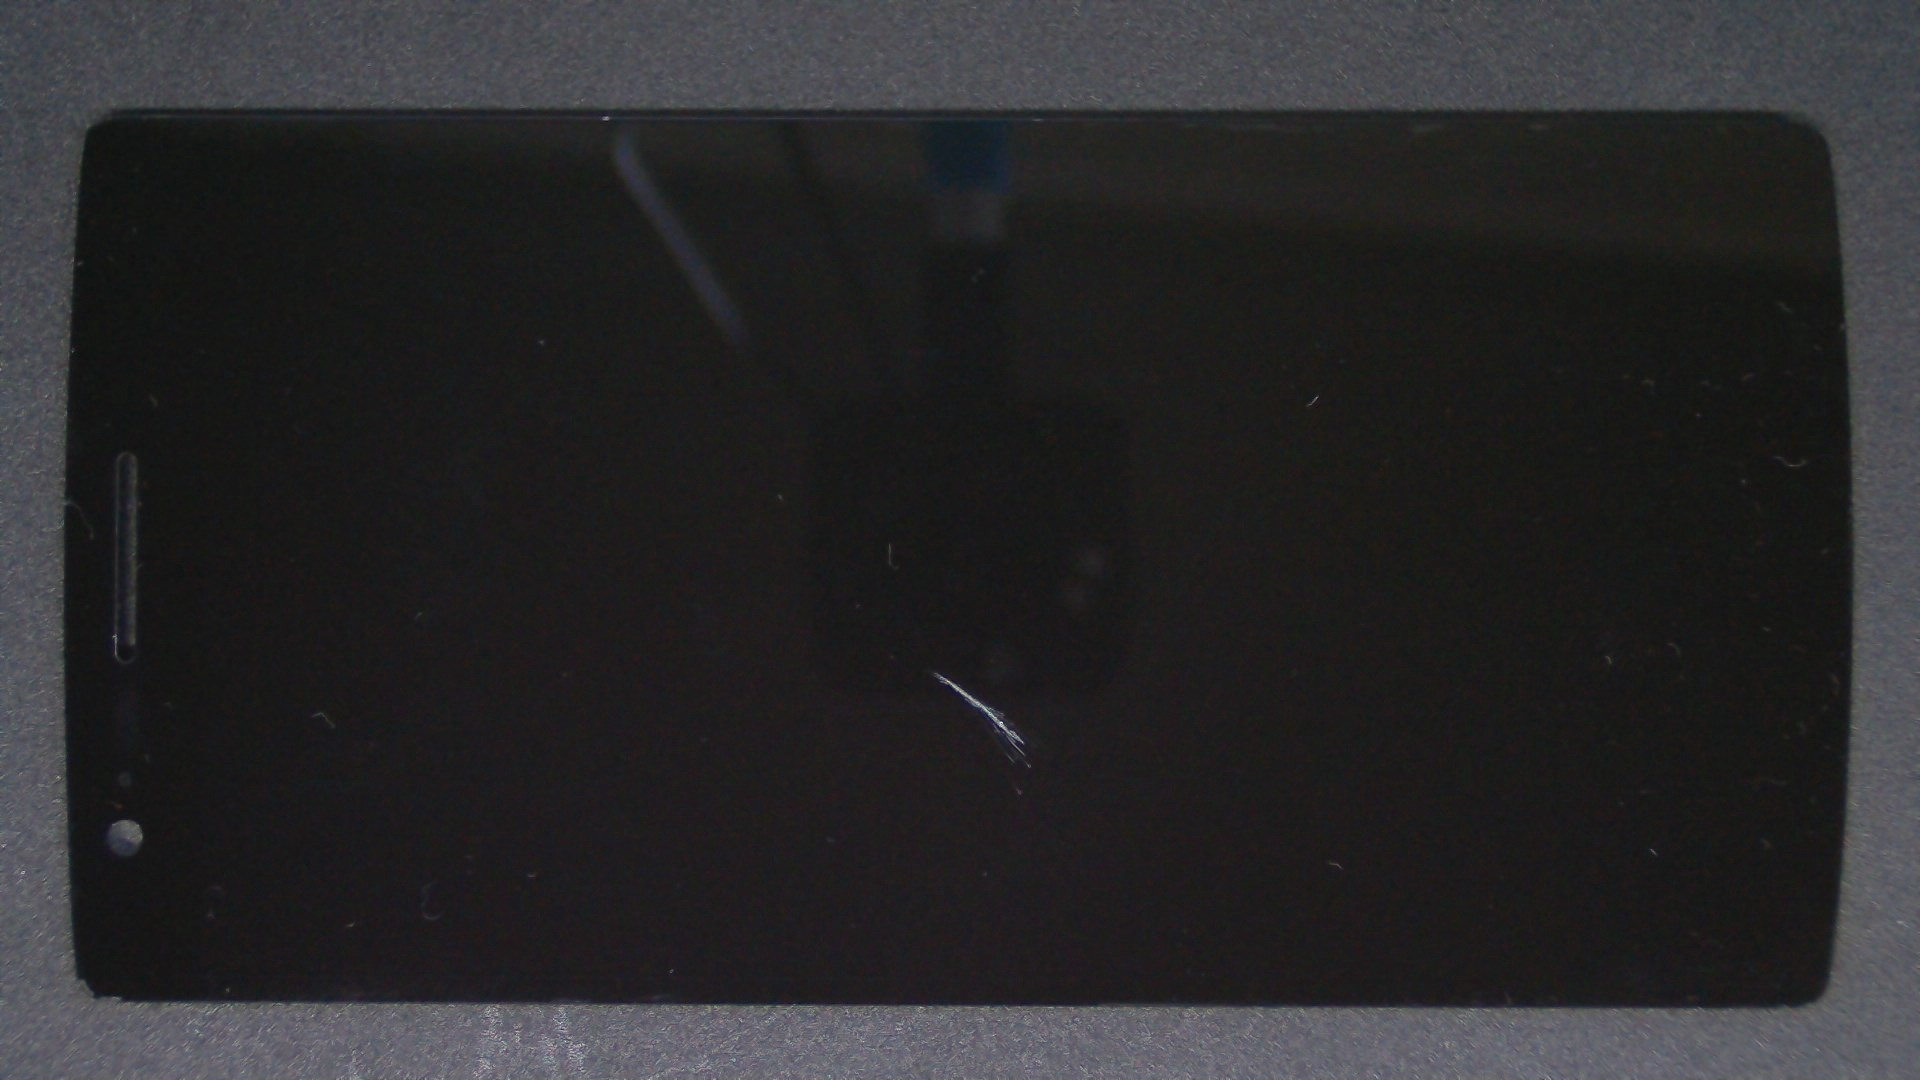oil: (467, 335, 1400, 1007)
